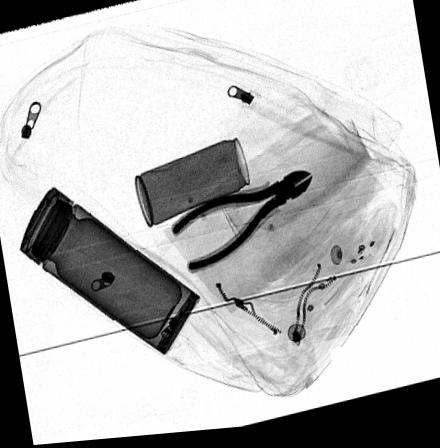Pliers: (170, 173, 313, 276)
